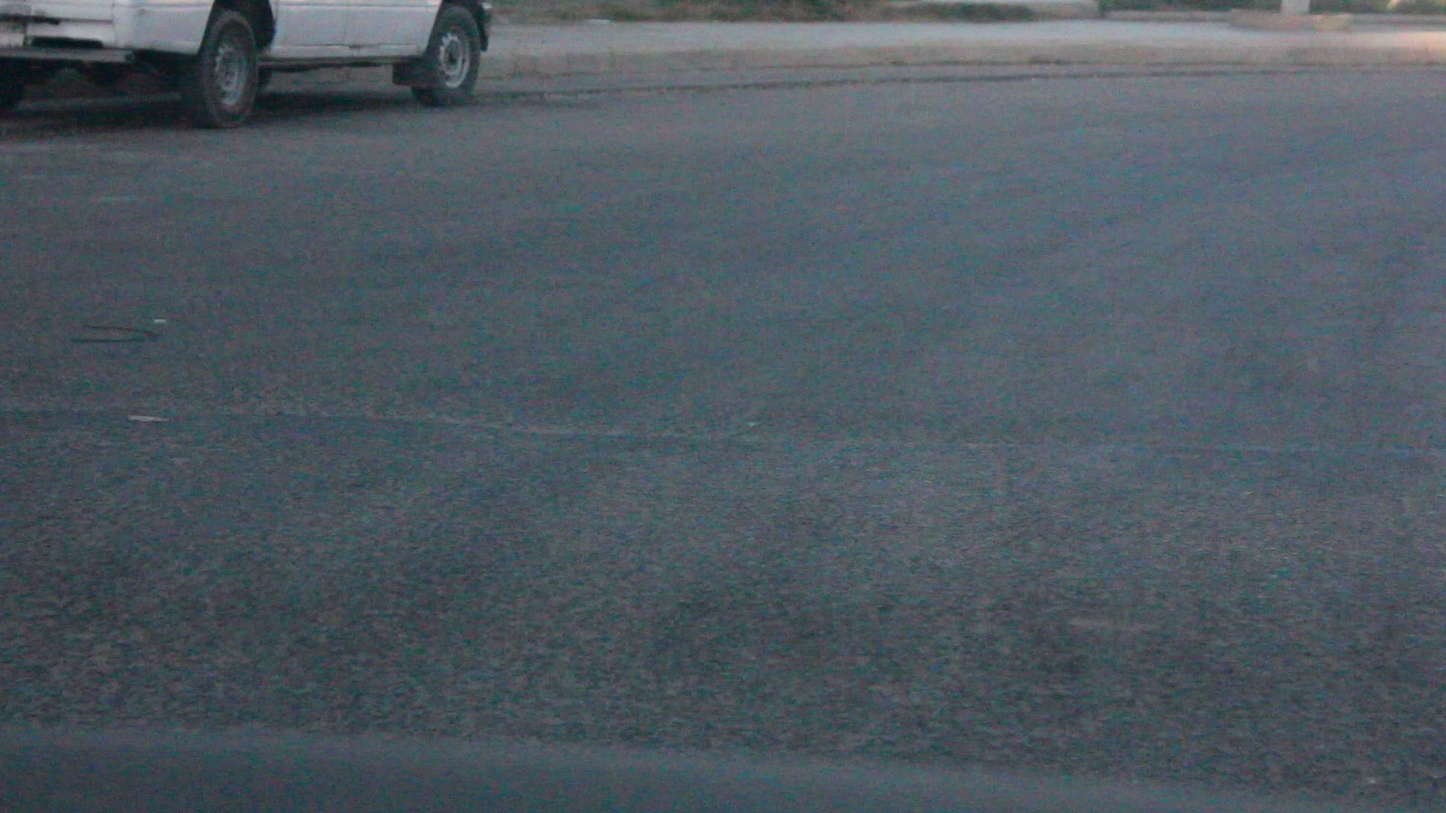Bump: (32, 420, 1446, 766)
